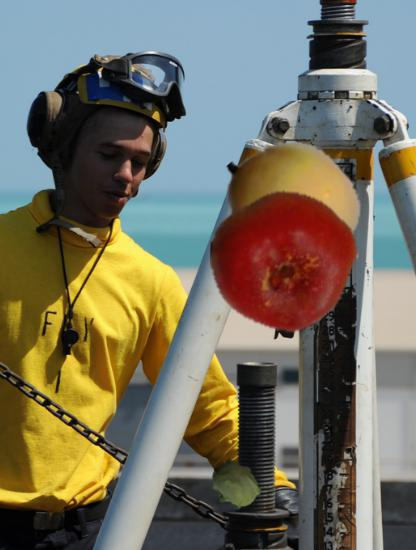Kohlrabi: (209, 459, 262, 512)
Nectarine: (210, 187, 358, 335)
Pepino: (219, 134, 361, 276)
